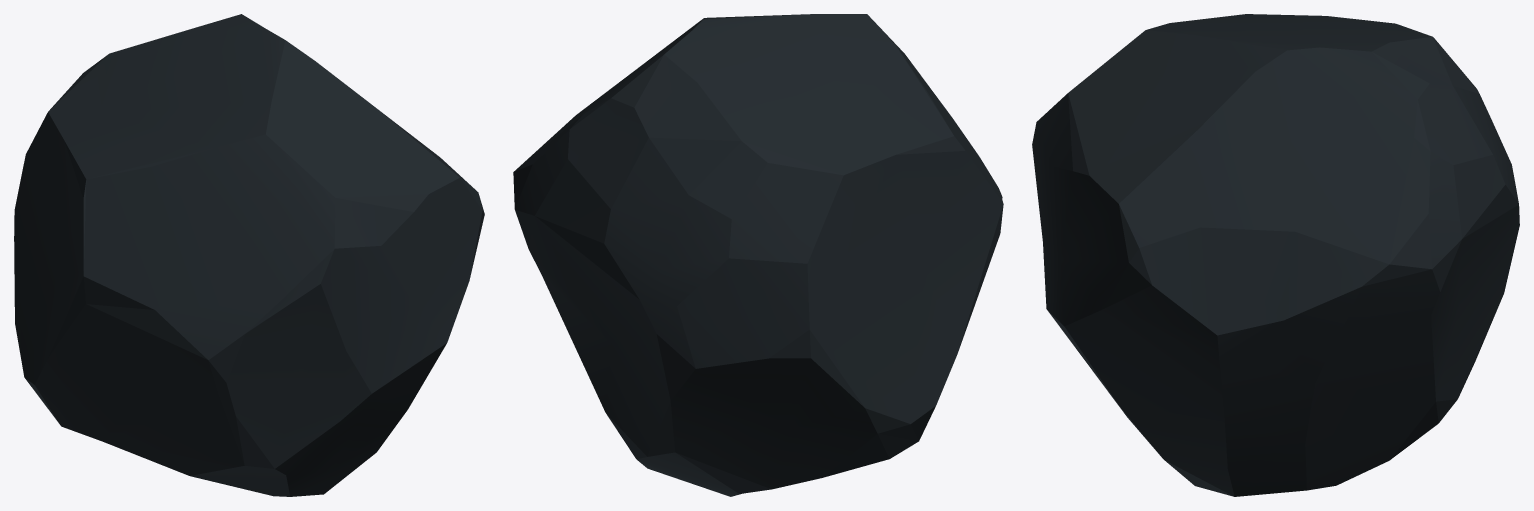
The model's file is Asteroid_s_15.FBX.
3 renders of one model, left to right at view 1: azimuth 30°, elevation 25°; view 2: azimuth 150°, elevation 25°; view 3: azimuth 270°, elevation 25°, orthographic. The views are drawn at different scales.
Visible parts, largest first — view 1: Asteroid_s_15; view 2: Asteroid_s_15; view 3: Asteroid_s_15.
Boxes of the visible parts, x1,y1,x2,y2 form: Asteroid_s_15: (14, 14, 484, 496); Asteroid_s_15: (513, 14, 1003, 496); Asteroid_s_15: (1032, 14, 1519, 496).
Size of the model in its own units: 178 by 184 by 183.
